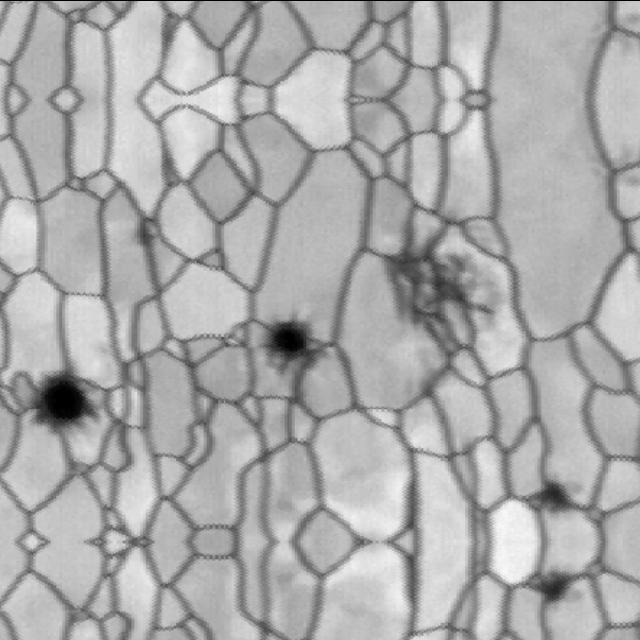good_void: (360, 197, 530, 375), (19, 343, 113, 450), (511, 471, 599, 528), (511, 552, 599, 609), (255, 307, 318, 376), (112, 195, 168, 262)
